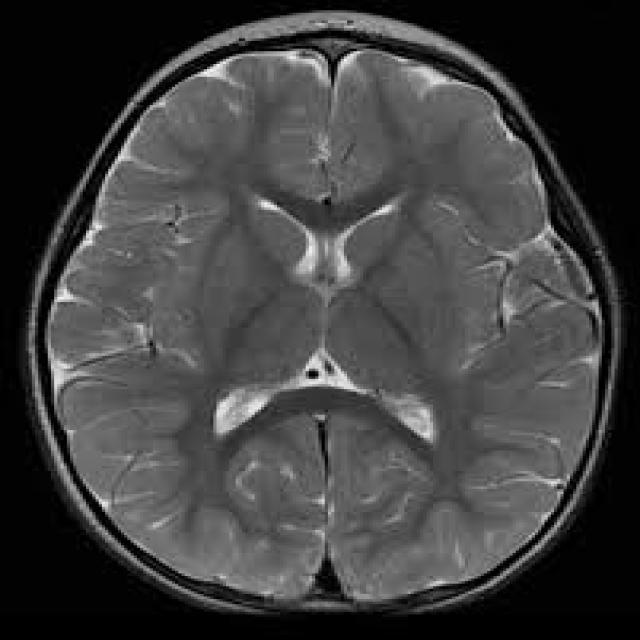notumor: (25, 10, 624, 614)
